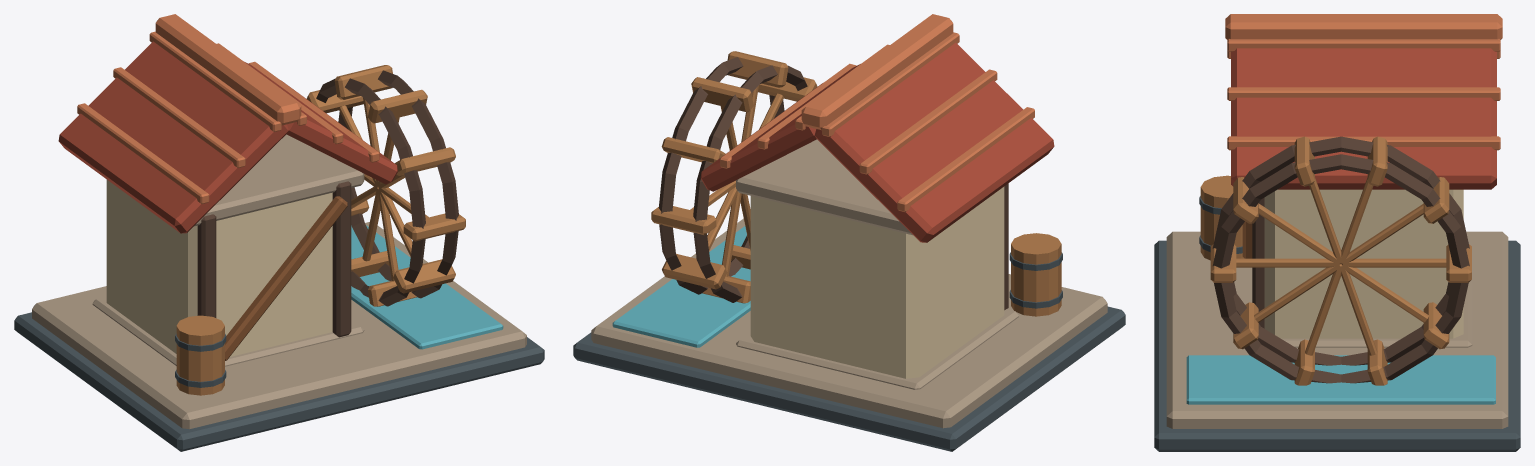
File: valley.glb
3 renders of one model, left to right at view 1: azimuth 30°, elevation 25°; view 2: azimuth 150°, elevation 25°; view 3: azimuth 270°, elevation 25°, orthographic. The views are drawn at different scales.
Visible parts, largest first — view 1: valley-stone, valley-pale, valley-roof, valley-slate, valley-brick, valley-oak, valley-dark.001, valley-water, valley-dark, valley-oak.001, valley-wood; view 2: valley-pale, valley-stone, valley-roof, valley-slate, valley-brick, valley-oak, valley-dark.001, valley-water, valley-oak.001, valley-dark; view 3: valley-roof, valley-stone, valley-pale, valley-oak, valley-brick, valley-dark.001, valley-slate, valley-water, valley-oak.001, valley-dark, valley-wood.
Boxes of the visible parts, box(x1,y1,x2,y2) form: valley-stone: box(32, 134, 526, 429); valley-pale: box(106, 179, 332, 356); valley-roof: box(58, 41, 397, 233); valley-slate: box(14, 312, 544, 451); valley-brick: box(77, 14, 379, 204); valley-oak: box(306, 65, 465, 306); valley-dark.001: box(316, 70, 458, 306); valley-water: box(351, 225, 503, 349); valley-dark: box(197, 181, 351, 337); valley-oak.001: box(176, 315, 224, 395); valley-wood: box(225, 196, 347, 360); valley-pale: box(750, 186, 1004, 378); valley-stone: box(591, 139, 1107, 428); valley-roof: box(700, 42, 1054, 242); valley-slate: box(573, 252, 1125, 451); valley-brick: box(720, 14, 1034, 212); valley-oak: box(651, 51, 817, 303); valley-dark.001: box(658, 57, 807, 302); valley-water: box(612, 226, 750, 347); valley-oak.001: box(1011, 233, 1061, 316); valley-dark: box(1004, 183, 1008, 310); valley-roof: box(1231, 48, 1496, 189); valley-stone: box(1166, 231, 1508, 428); valley-pale: box(1264, 189, 1463, 338); valley-oak: box(1210, 136, 1471, 385); valley-brick: box(1225, 14, 1502, 150); valley-dark.001: box(1212, 136, 1469, 383); valley-slate: box(1154, 196, 1520, 451); valley-water: box(1186, 355, 1495, 404); valley-oak.001: box(1200, 175, 1244, 260); valley-dark: box(1252, 197, 1264, 328); valley-wood: box(1242, 221, 1252, 258).
Size of the model in its own units: 2.45 by 1.84 by 1.93.
